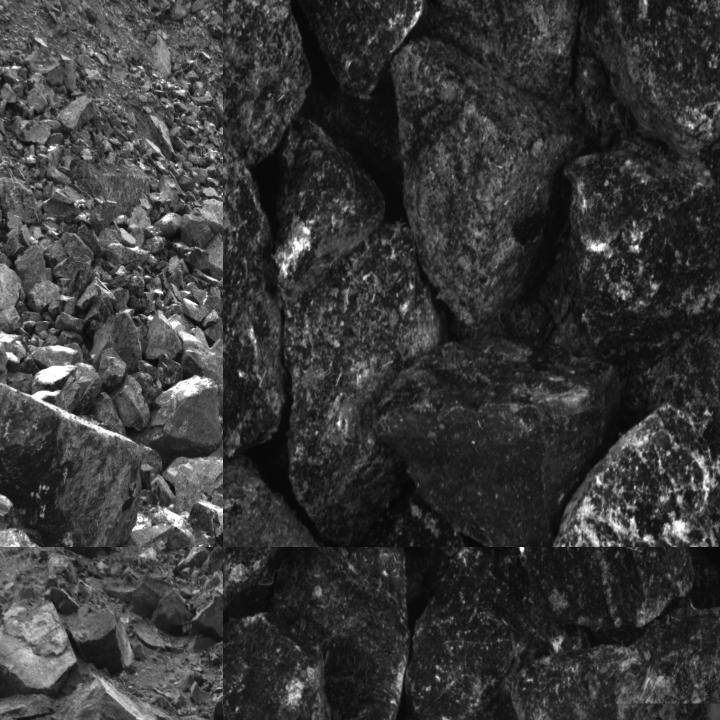stone: (390, 40, 586, 324), (284, 220, 447, 546), (373, 344, 621, 546), (557, 143, 719, 369), (491, 400, 719, 546), (403, 547, 590, 719), (223, 40, 287, 482), (0, 366, 151, 546), (223, 547, 401, 693), (273, 547, 421, 719), (504, 606, 719, 719), (578, 0, 719, 153), (274, 118, 382, 305), (485, 547, 705, 632), (415, 0, 592, 99), (223, 0, 310, 161), (285, 0, 427, 95), (223, 613, 337, 719), (223, 459, 325, 546), (140, 374, 221, 467), (0, 604, 76, 697), (327, 500, 468, 546), (72, 606, 134, 673), (0, 497, 78, 546), (92, 311, 143, 371), (178, 326, 222, 390), (57, 362, 102, 416), (150, 588, 195, 639), (114, 374, 152, 432), (128, 572, 172, 620), (0, 176, 43, 224), (145, 311, 185, 359), (52, 255, 94, 299), (180, 211, 222, 249), (17, 244, 48, 294), (0, 262, 22, 332), (191, 595, 222, 643), (56, 96, 96, 132), (30, 364, 75, 394), (98, 348, 127, 392), (28, 280, 62, 314), (32, 344, 80, 368), (154, 213, 183, 237)
